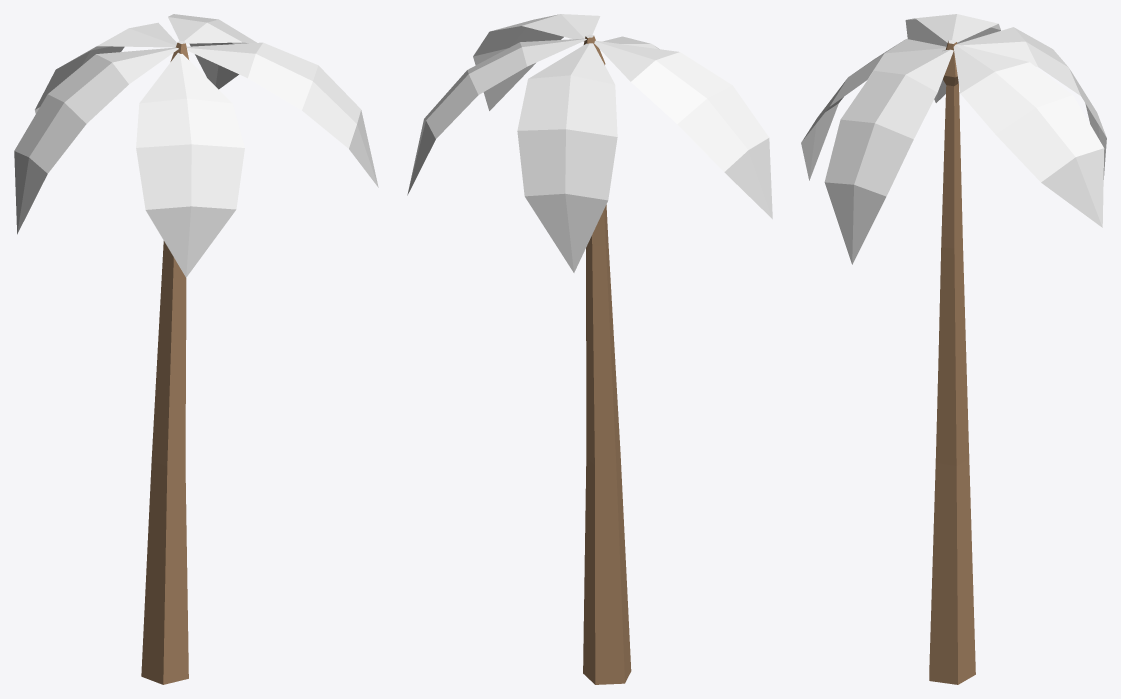
File: Palm_Tree_OneSided_s_Snow_01.fbx
The picture shows the model from 3 angles, left to right: view 1: azimuth 30°, elevation 25°; view 2: azimuth 150°, elevation 25°; view 3: azimuth 270°, elevation 25°; orthographic projection. The views are drawn at different scales.
Parts seen in each view (by area): view 1: Palm_Tree_OneSided_s_Snow_01; view 2: Palm_Tree_OneSided_s_Snow_01; view 3: Palm_Tree_OneSided_s_Snow_01.
Part boxes in pixels (x1,y1,x2,y2): Palm_Tree_OneSided_s_Snow_01: [14, 14, 378, 684]; Palm_Tree_OneSided_s_Snow_01: [407, 14, 772, 684]; Palm_Tree_OneSided_s_Snow_01: [801, 14, 1106, 684].
Size of the model in its own units: 249 by 465 by 201.
